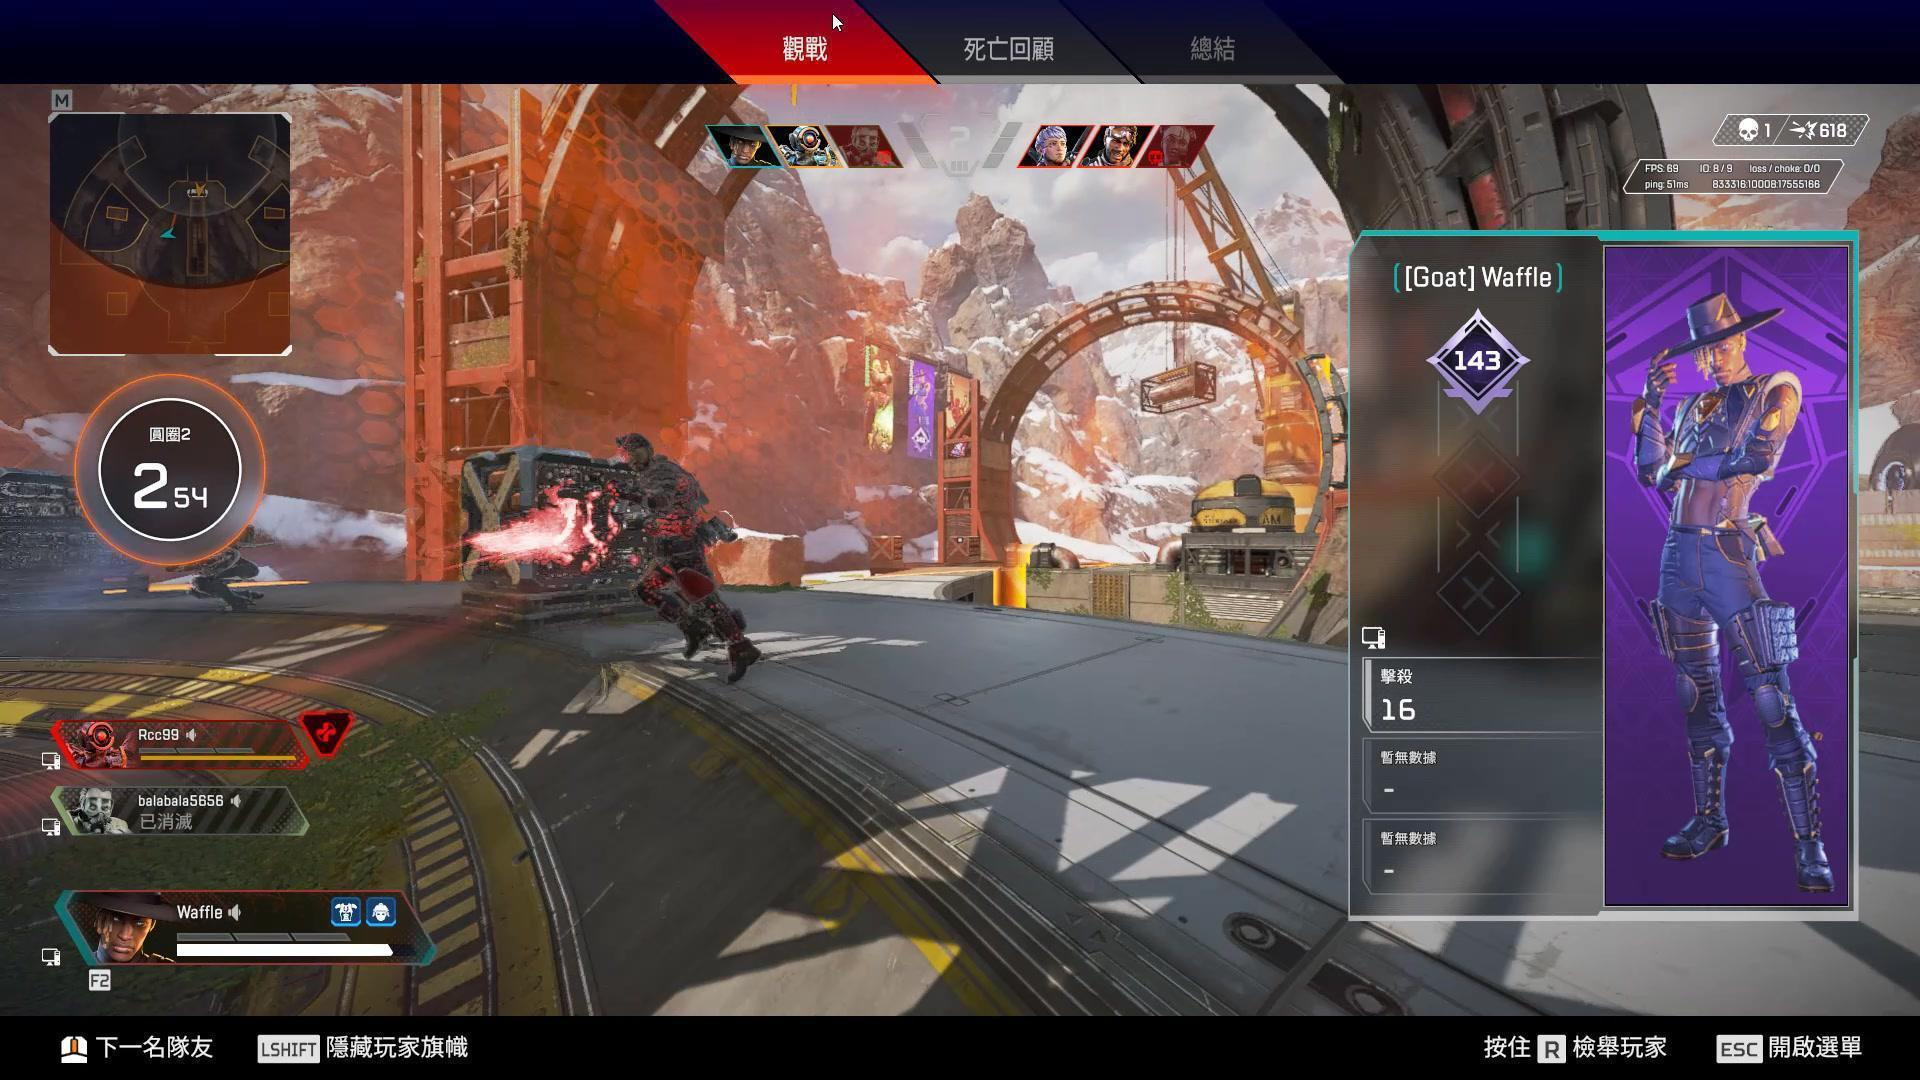avatar: (607, 430, 759, 686)
